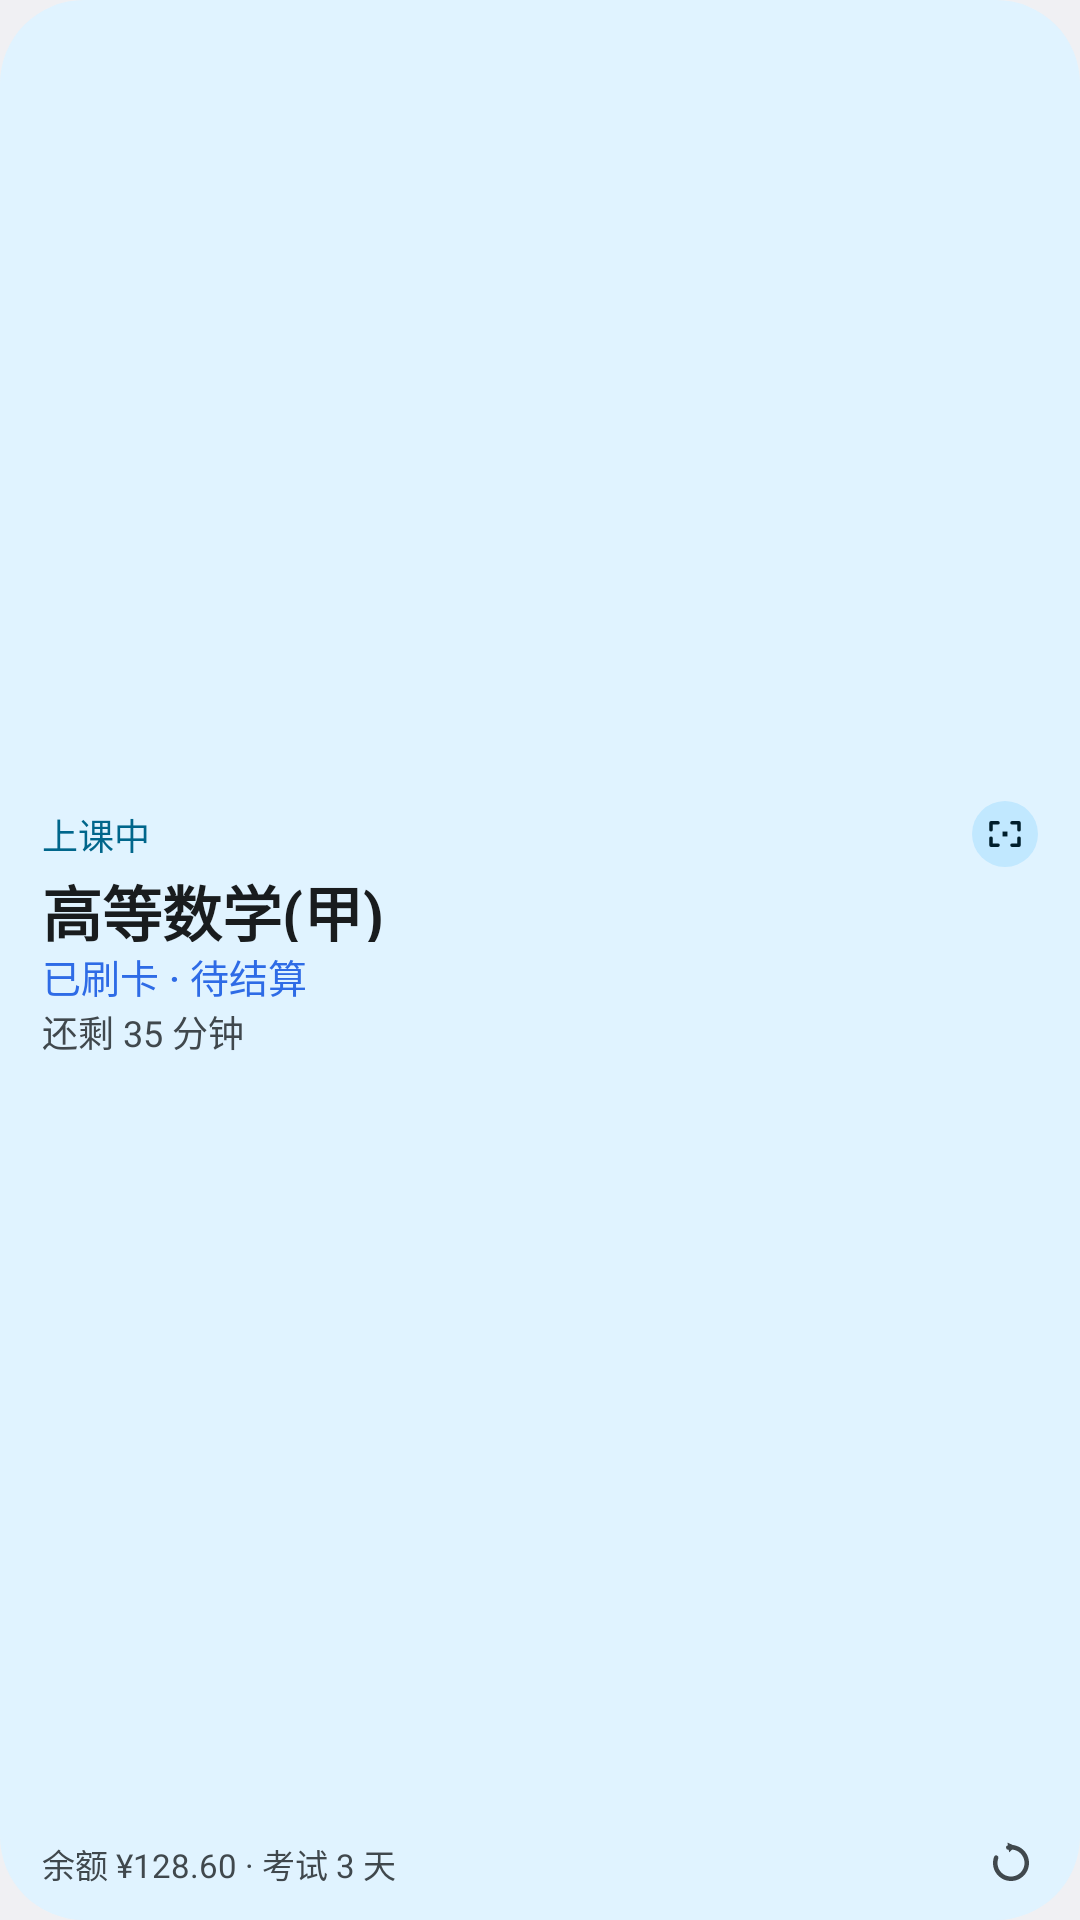

Locate icon controls on the screen. Image size 1080×1920, boxes as (x1, y1, x2, y2).
刷新: (993, 1843, 1029, 1881)
扫码: (972, 801, 1038, 867)
